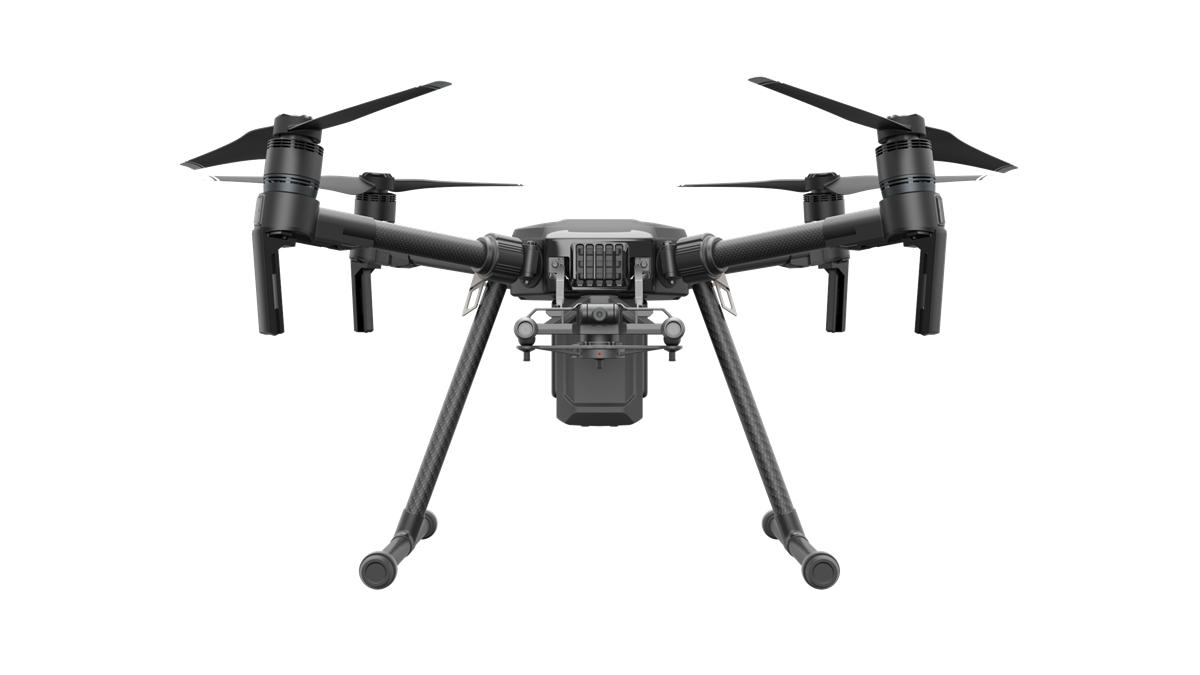drone: (171, 68, 1028, 598)
